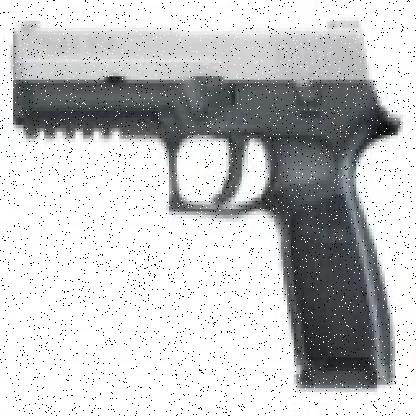pistol: (10, 14, 403, 392)
